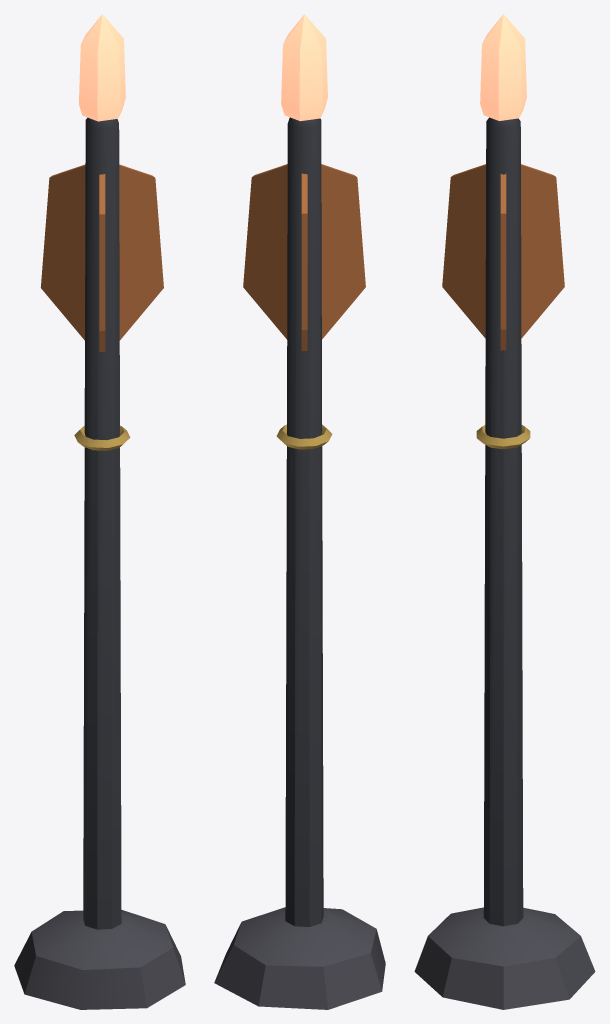
File: deco_sensor_stake.fbx
The picture shows the model from 3 angles, left to right: view 1: azimuth 30°, elevation 25°; view 2: azimuth 150°, elevation 25°; view 3: azimuth 270°, elevation 25°; orthographic projection.
Parts seen in each view (by area): view 1: SensorStake_Stake, SensorStake_Tip; view 2: SensorStake_Stake, SensorStake_Tip; view 3: SensorStake_Stake, SensorStake_Tip.
Part boxes in pixels (x1,y1,x2,y2): SensorStake_Stake: (14, 117, 185, 1009); SensorStake_Tip: (79, 14, 125, 121); SensorStake_Stake: (214, 117, 385, 1009); SensorStake_Tip: (281, 14, 327, 121); SensorStake_Stake: (414, 117, 595, 1009); SensorStake_Tip: (480, 14, 526, 120).
Bounding box in the file's own units: 36.47 × 214 × 36.66.
